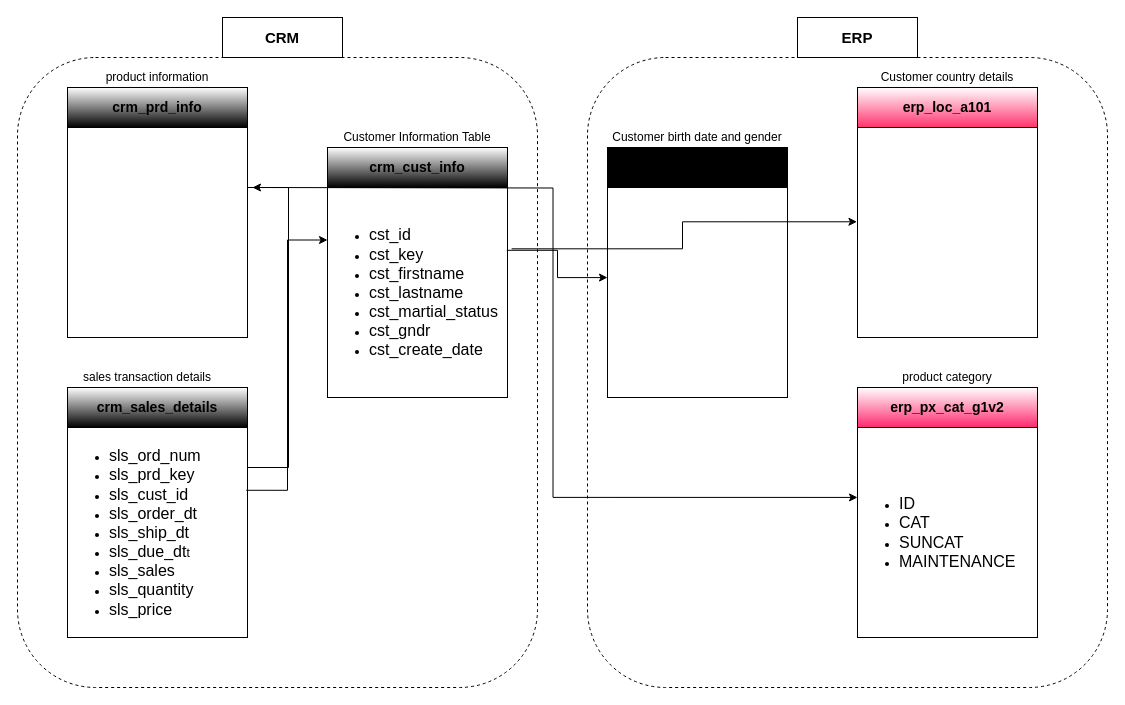
This 1125x705 diagram has some shape labels left out. Here are the shapes that lost their labels. From the top down, the centre of each, then its label:
At (x=157, y=232): "prd_id prd_key prd_nm prd_cost prd_line prd_start_dt prd_end_dt".
At (x=947, y=232): "CID CNTRY".
At (x=697, y=292): "CID BDATE GEN".
